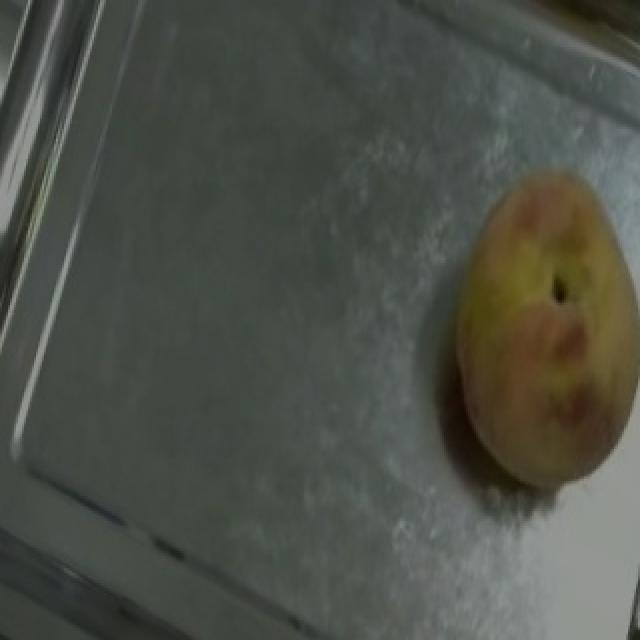Fruit: (402, 139, 640, 489)
